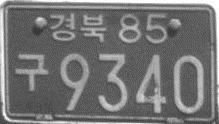0: (173, 54, 205, 114)
3: (96, 52, 130, 111)
4: (133, 52, 168, 114)
5: (145, 11, 168, 45)
8: (118, 12, 140, 45)
9: (58, 51, 89, 114)
경북_O: (46, 11, 106, 43)
구: (12, 50, 49, 91)
